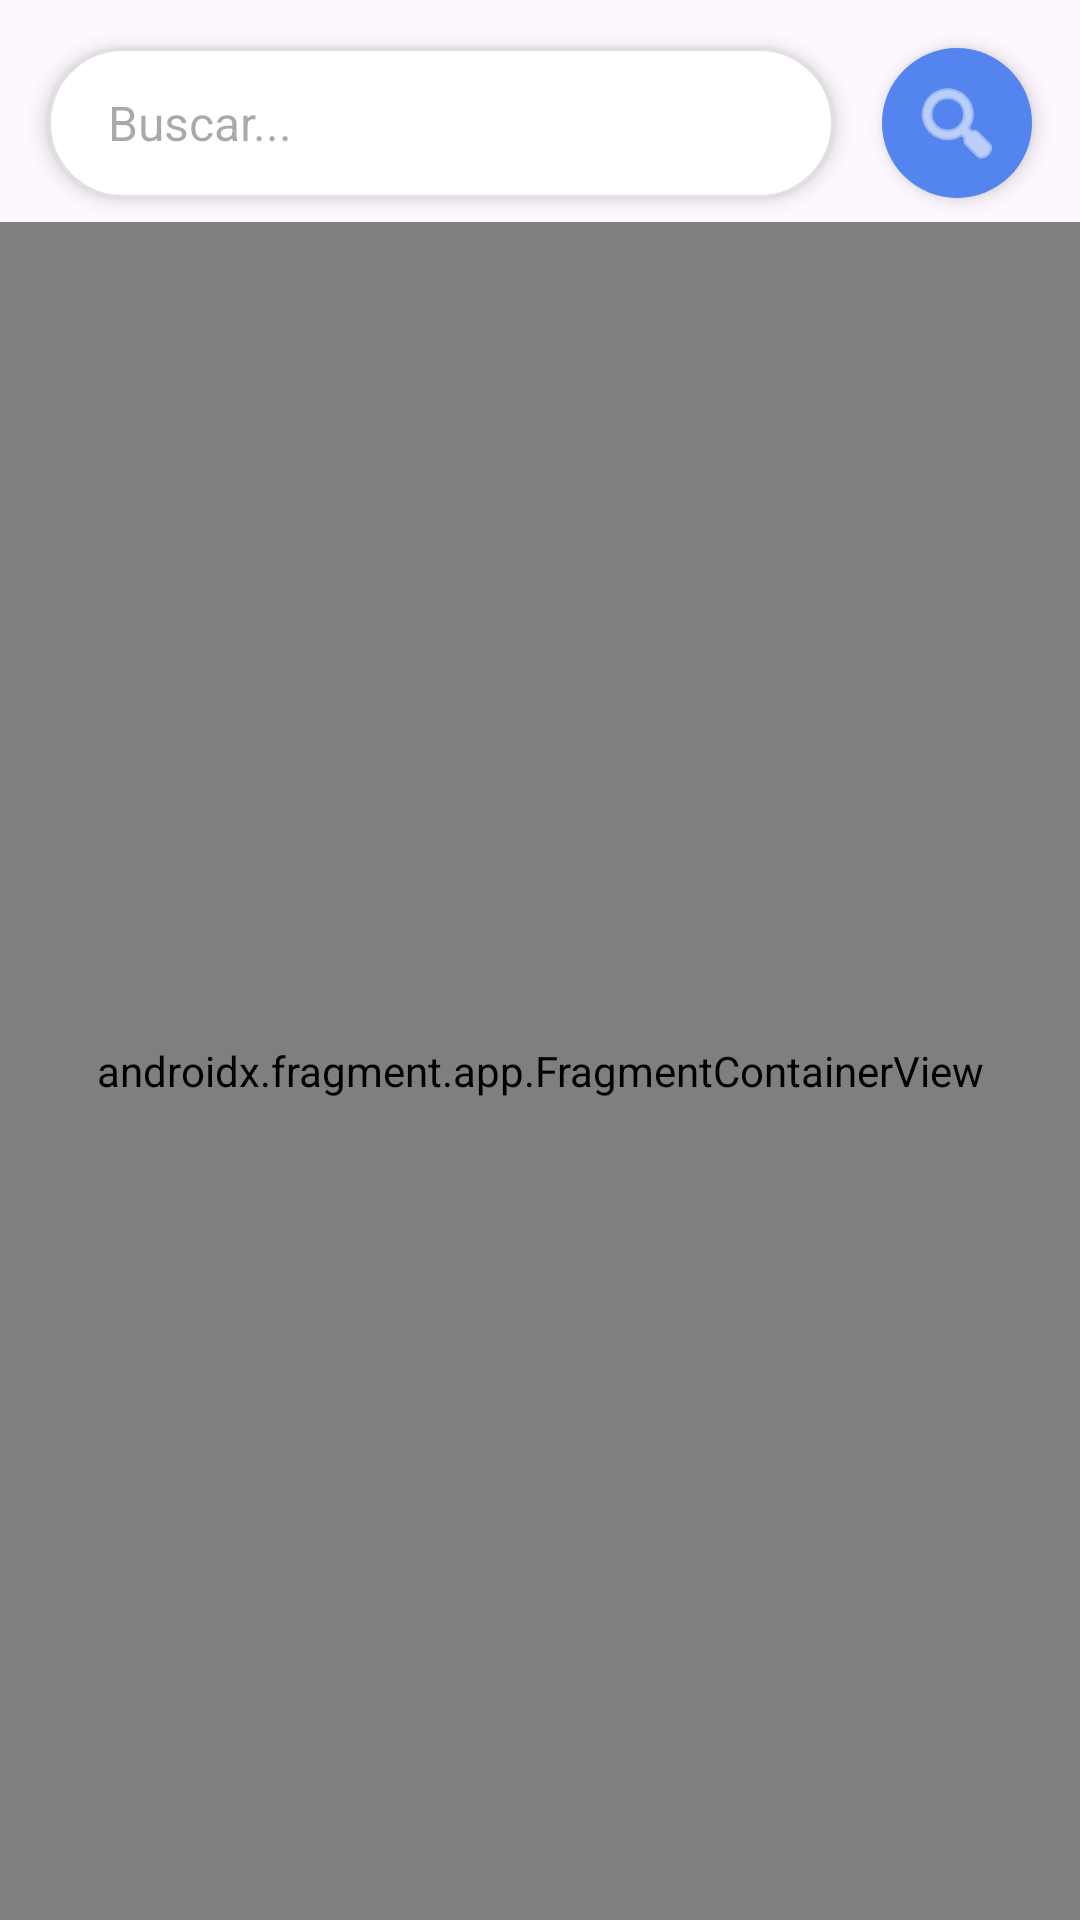

Screen size 1080px x 1920px. Icon name, then its box in pixels as [left=x1, top=y1, right=x2, bottom=y2]:
Search button: [left=882, top=48, right=1032, bottom=198]
